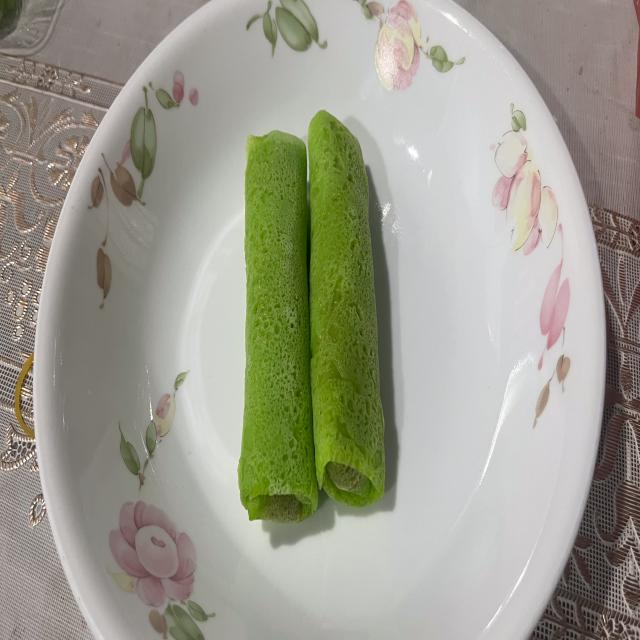Kuih-Ketayap: (239, 111, 385, 522), (238, 131, 318, 522)
